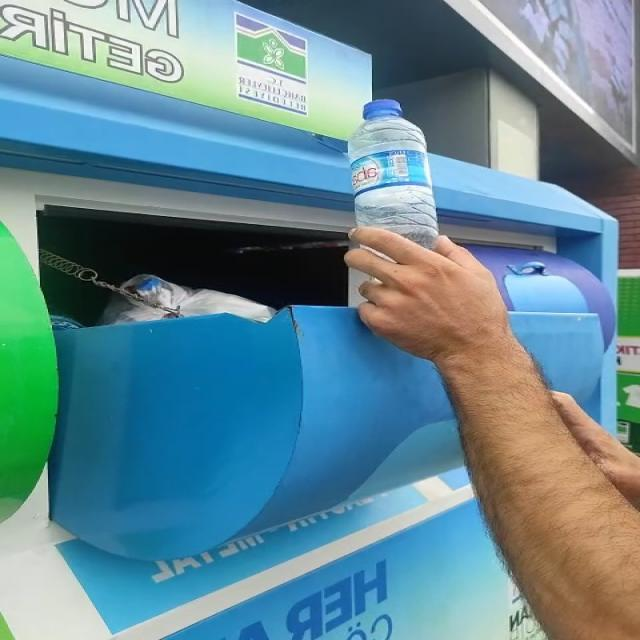plastic: (348, 99, 439, 248)
